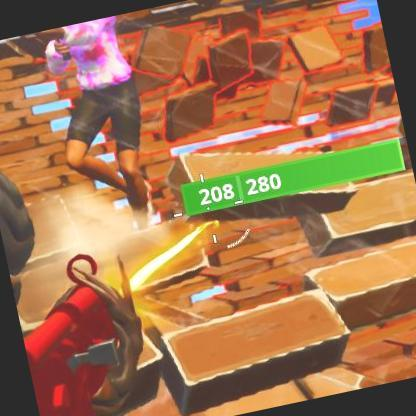person: (9, 245, 167, 416), (64, 12, 169, 211)
